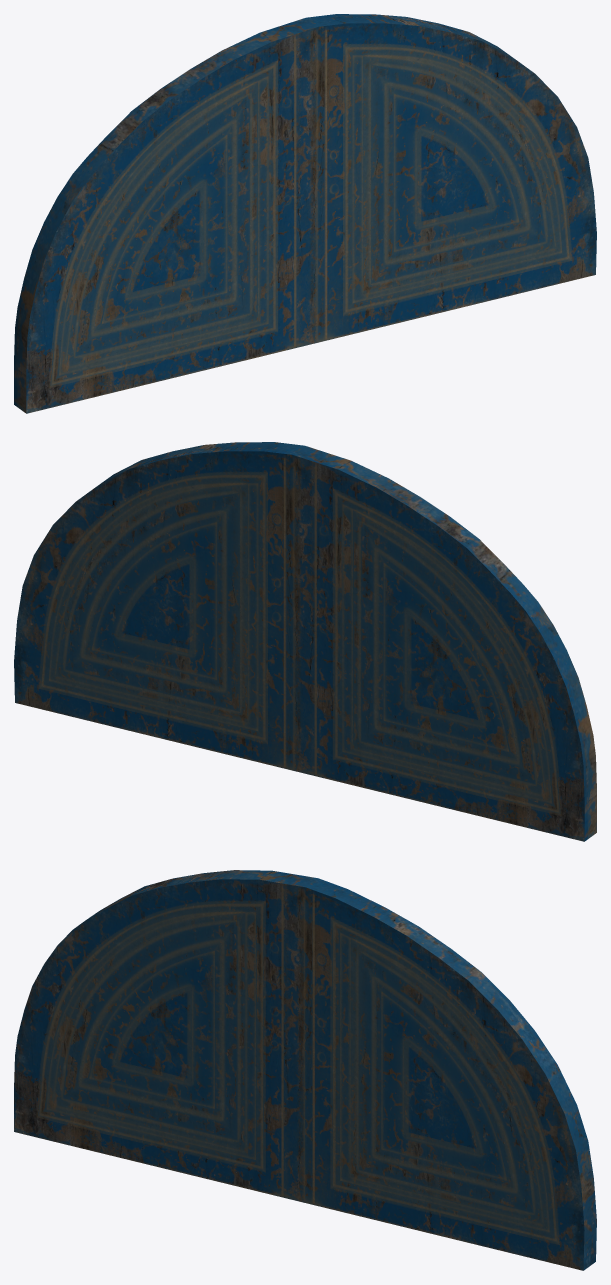
The model's file is SM_DoorTop.FBX.
3 renders of one model, top to bottom at view 1: azimuth 30°, elevation 25°; view 2: azimuth 150°, elevation 25°; view 3: azimuth 330°, elevation 25°, orthographic.
Parts seen in each view (by area): view 1: SM_DoorTop; view 2: SM_DoorTop; view 3: SM_DoorTop.
Part boxes in pixels (x1,y1,x2,y2): SM_DoorTop: (14, 14, 596, 413); SM_DoorTop: (14, 442, 596, 841); SM_DoorTop: (14, 870, 596, 1270).
Bounding box in the file's own units: 287 × 10.88 × 152.
